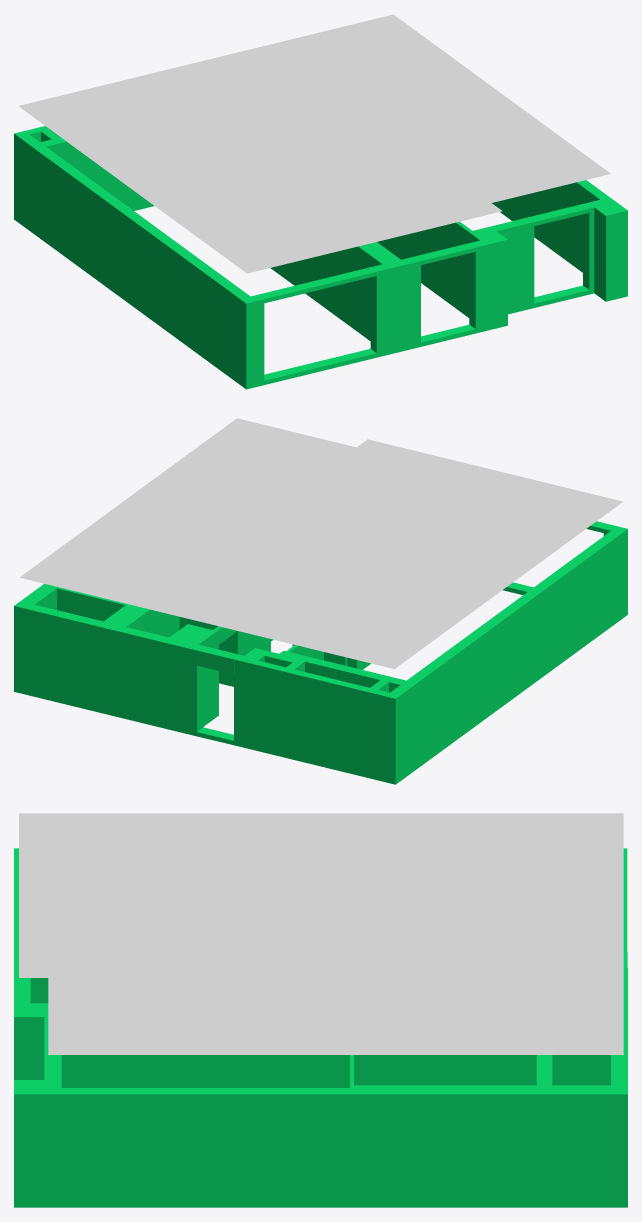
File: квартира2_потолок.fbx
3 renders of one model, top to bottom at view 1: azimuth 30°, elevation 25°; view 2: azimuth 150°, elevation 25°; view 3: azimuth 270°, elevation 25°, orthographic. The views are drawn at different scales.
Visible parts, largest first — view 1: Plane, Cube; view 2: Plane, Cube; view 3: Plane, Cube.
Part boxes in pixels (x1,y1,x2,y2): Plane: (18, 14, 610, 273); Cube: (14, 126, 627, 389); Plane: (19, 418, 622, 668); Cube: (14, 521, 627, 784); Plane: (19, 813, 623, 1054); Cube: (14, 848, 627, 1207).
Bounding box in the file's own units: 1859 × 530 × 1963.
